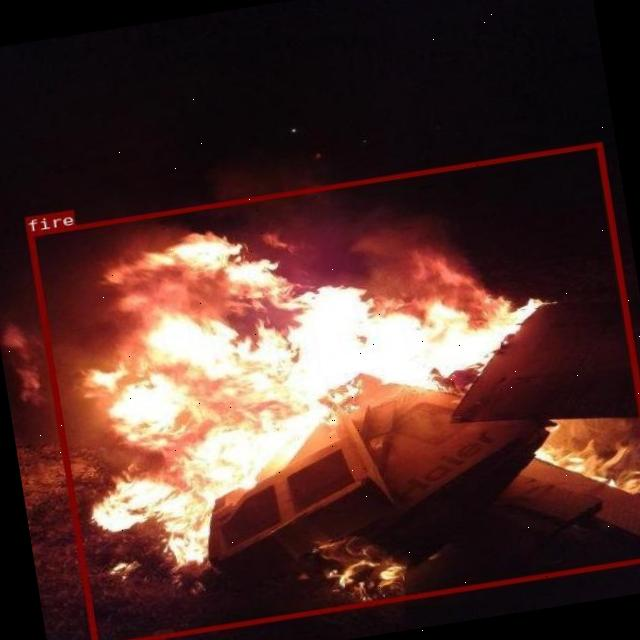fire: (27, 141, 640, 640)
